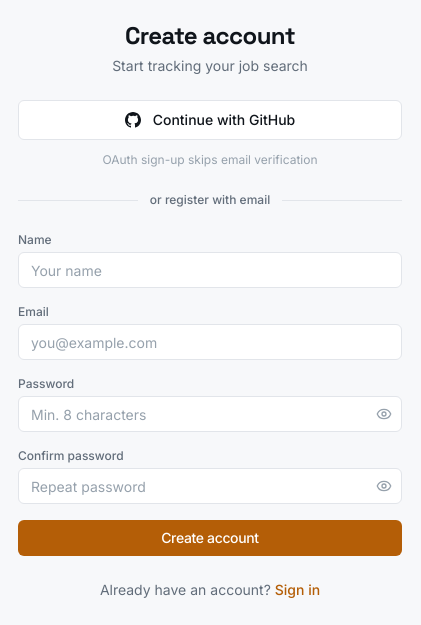
RegisterPage › shows a mismatch error when confirm does not match password
The width and height of the screenshot is (421, 625).
Type "Jane Doe" into the field labelled "Name". click: (210, 270)
box: [18,252,402,288]
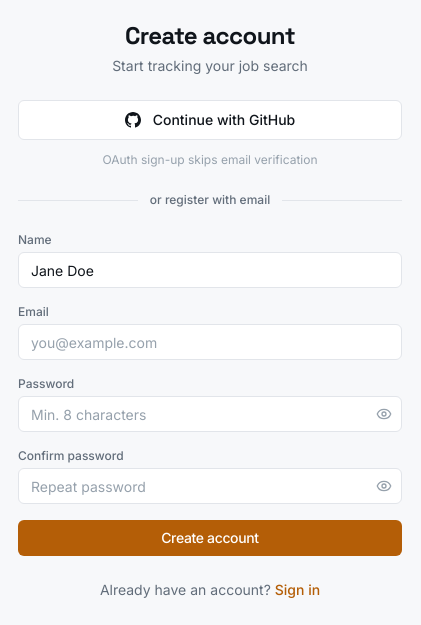
Type "jane@example.com" into the field labelled "Email". click: (210, 342)
box: [18,324,402,360]
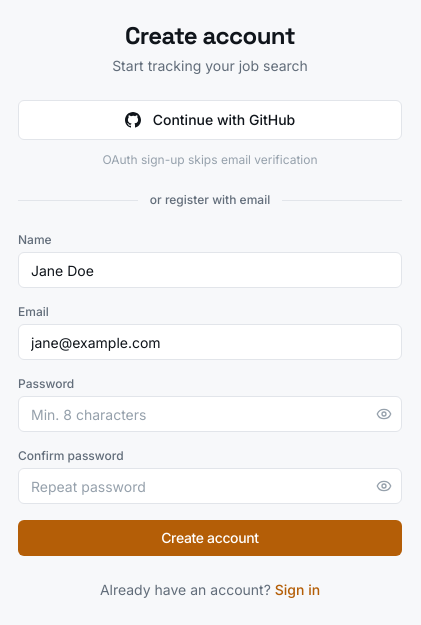
Type "longenough1" into the password field labelled "Password". click: (210, 414)
box: [18,396,402,432]
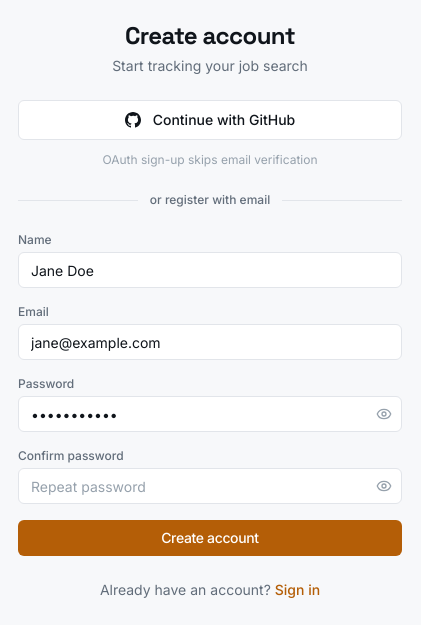
Type "longenough1" into the password field labelled "Confirm password". click: (210, 486)
box: [18,468,402,504]
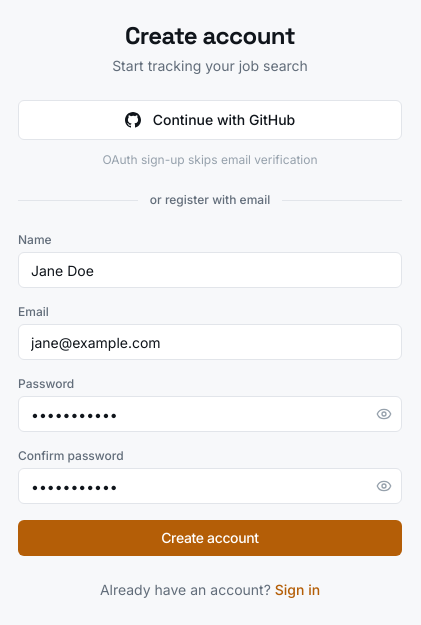
Type "different1" into the password field labelled "Confirm password". click: (210, 486)
box: [18,468,402,504]
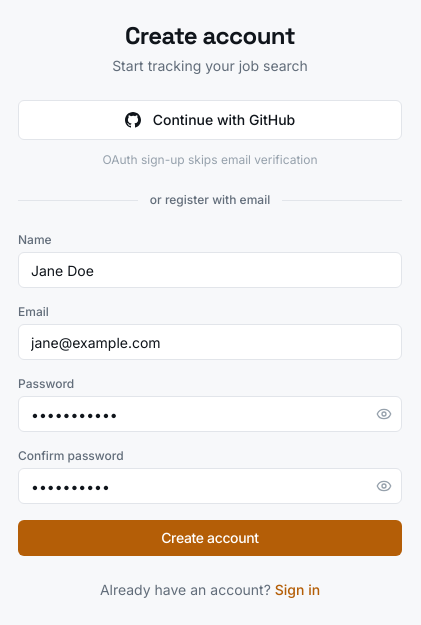
Click the button "Create account". click: (210, 538)
box: [18,520,402,556]
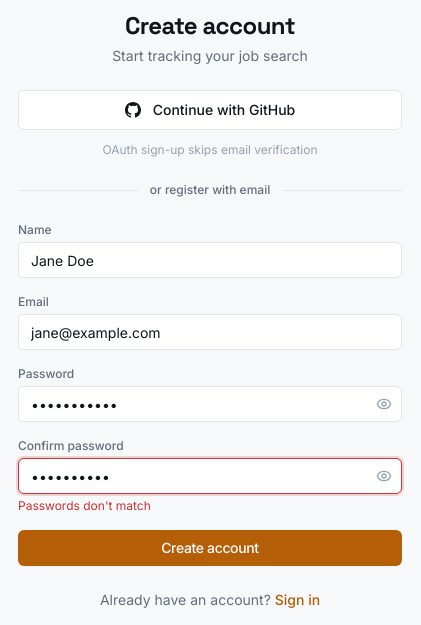
Expected: the text "Passwords don't match" is shown, [18,498,151,513]
